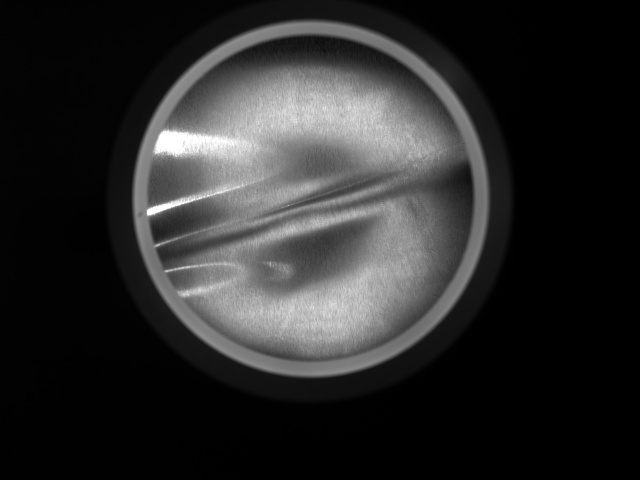zhe_zhou: (183, 72, 435, 325)
